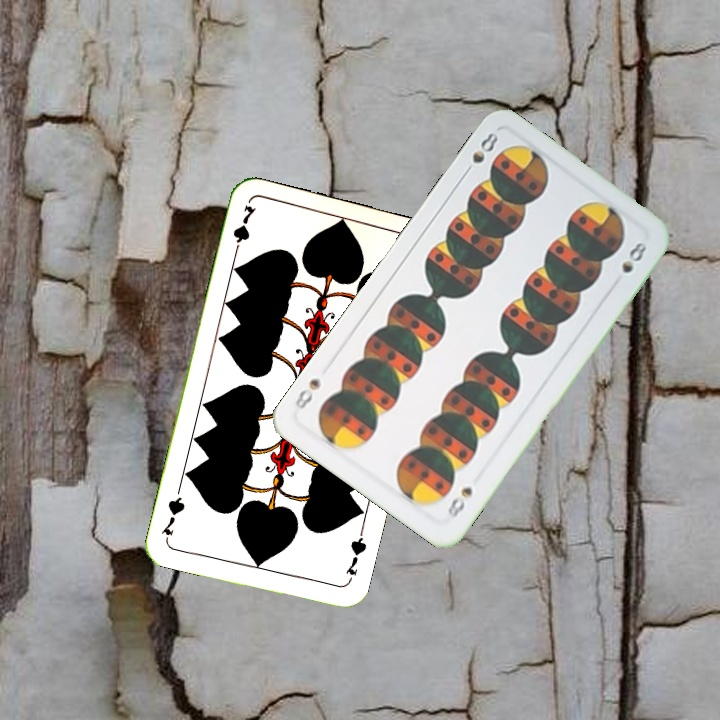G7: (228, 201, 258, 259), (341, 527, 369, 578)
S8: (459, 128, 501, 179), (443, 482, 476, 522)
